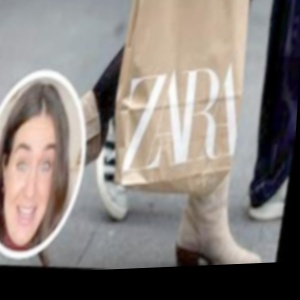zara: (155, 14, 300, 106)
